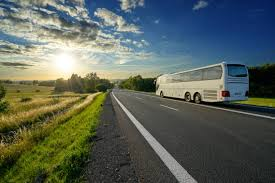bus: (154, 62, 250, 106)
